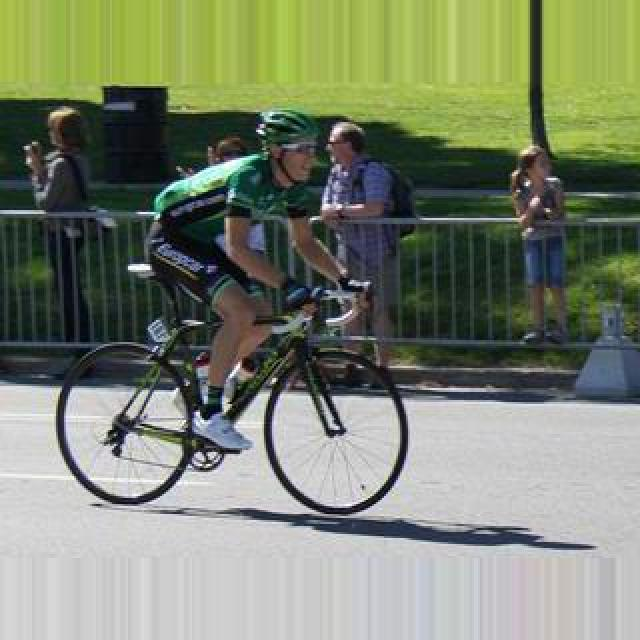MC-Bike: (202, 118, 354, 470), (28, 106, 106, 354), (510, 146, 568, 350)
Person: (58, 268, 408, 514)
